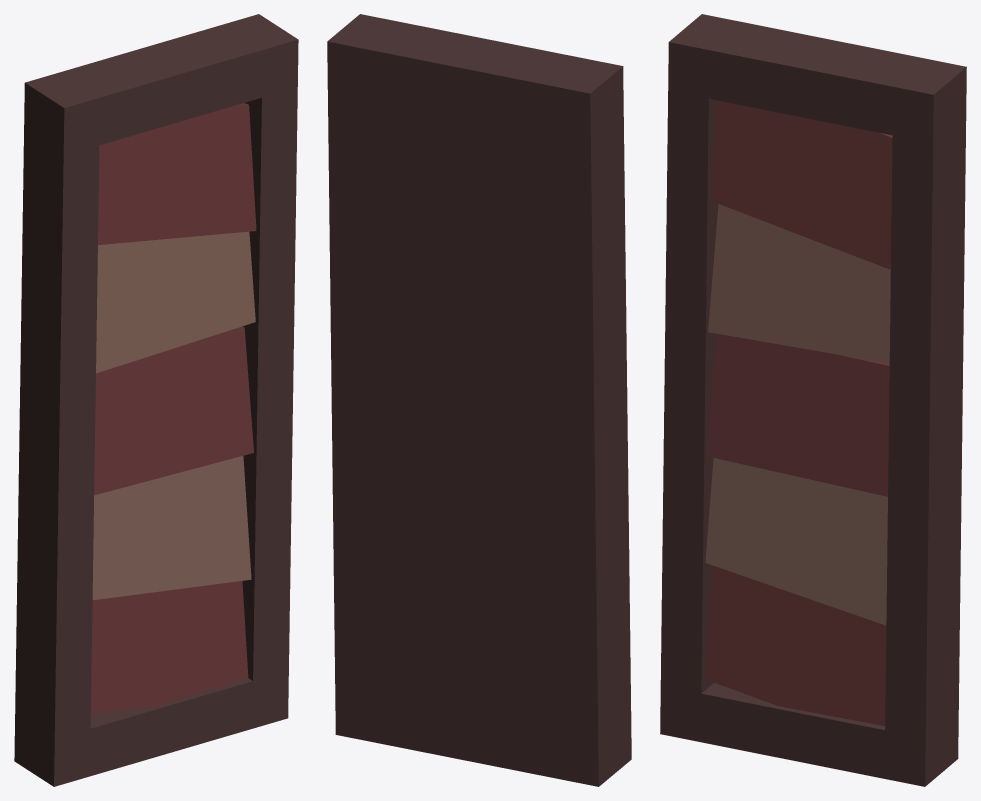
File: DarkRoseWoodWallSmallRightShutter1.fbx
3 renders of one model, left to right at view 1: azimuth 30°, elevation 25°; view 2: azimuth 150°, elevation 25°; view 3: azimuth 330°, elevation 25°, orthographic. The views are drawn at different scales.
Visible parts, largest first — view 1: DarkRoseWoodWallSmallRightShutter1; view 2: DarkRoseWoodWallSmallRightShutter1; view 3: DarkRoseWoodWallSmallRightShutter1.
Boxes of the visible parts, x1=… form: DarkRoseWoodWallSmallRightShutter1: x1=14, y1=14, x2=298, y2=786; DarkRoseWoodWallSmallRightShutter1: x1=327, y1=14, x2=631, y2=786; DarkRoseWoodWallSmallRightShutter1: x1=660, y1=14, x2=966, y2=786.
Bounding box in the file's own units: 150 × 376 × 49.09.
